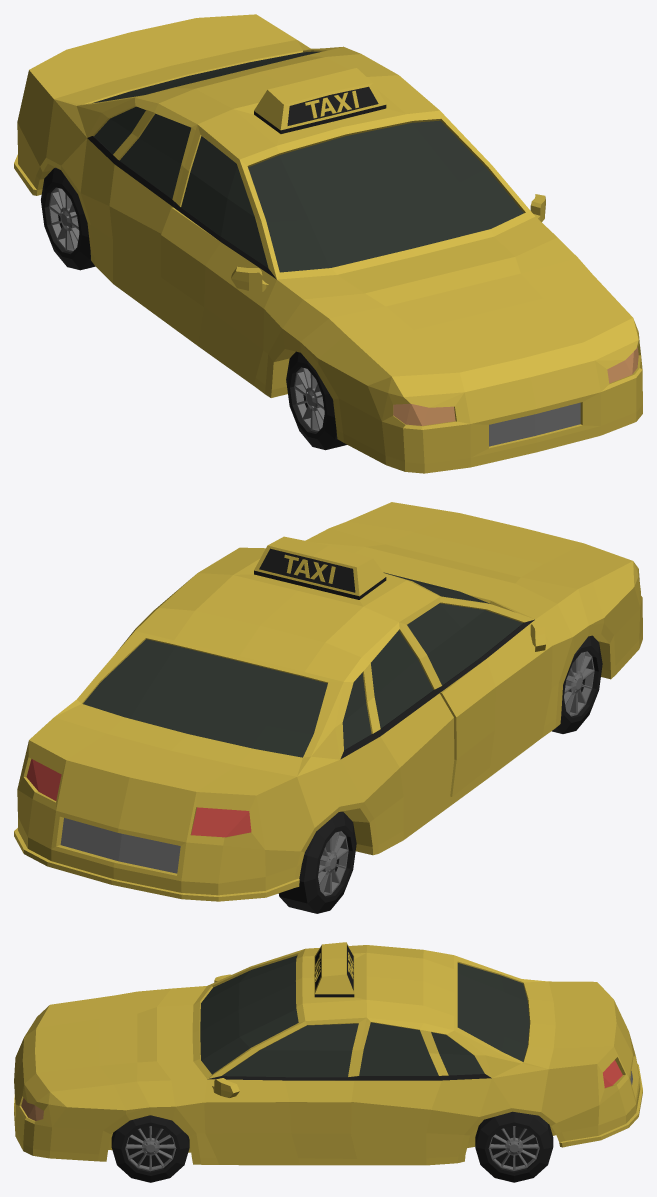
The model's file is car_taxi.glb.
The picture shows the model from 3 angles, top to bottom: view 1: azimuth 30°, elevation 25°; view 2: azimuth 150°, elevation 25°; view 3: azimuth 270°, elevation 25°; orthographic projection. The views are drawn at different scales.
Visible parts, largest first — view 1: Taxi_Cube.009; view 2: Taxi_Cube.009; view 3: Taxi_Cube.009.
Boxes of the visible parts, box(x1,y1,x2,y2) form: Taxi_Cube.009: box(14, 14, 642, 473); Taxi_Cube.009: box(14, 502, 642, 913); Taxi_Cube.009: box(14, 942, 642, 1182).
Size of the model in its own units: 1.81 by 1.31 by 4.22.
Materials: 1 (1 with a texture image).
